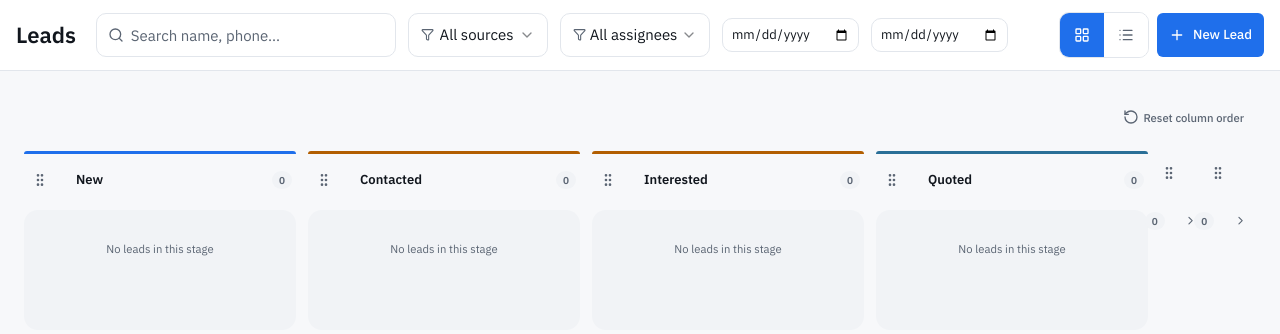
Scenario: LeadsPage filters › shows a removable chip for the active assignee filter
Click the dropdown labelled "All assignees" at (635, 35), box [560, 13, 710, 57]
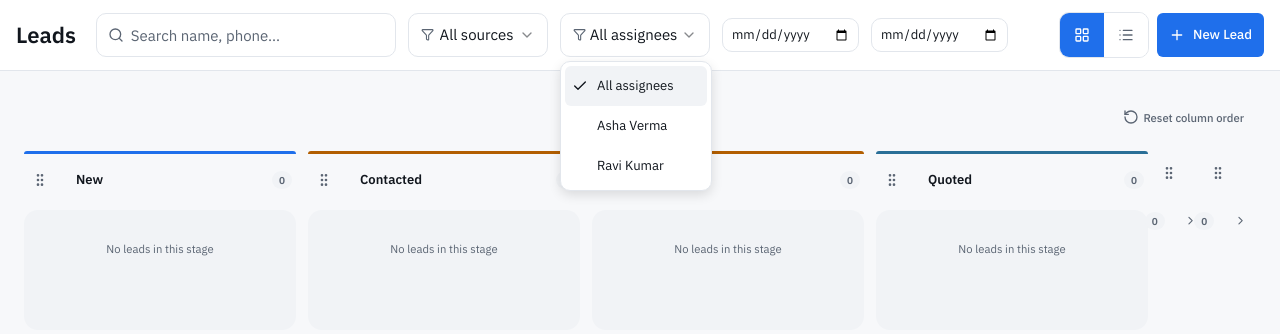
Click the option "Asha Verma" at (632, 125), box [597, 117, 667, 134]
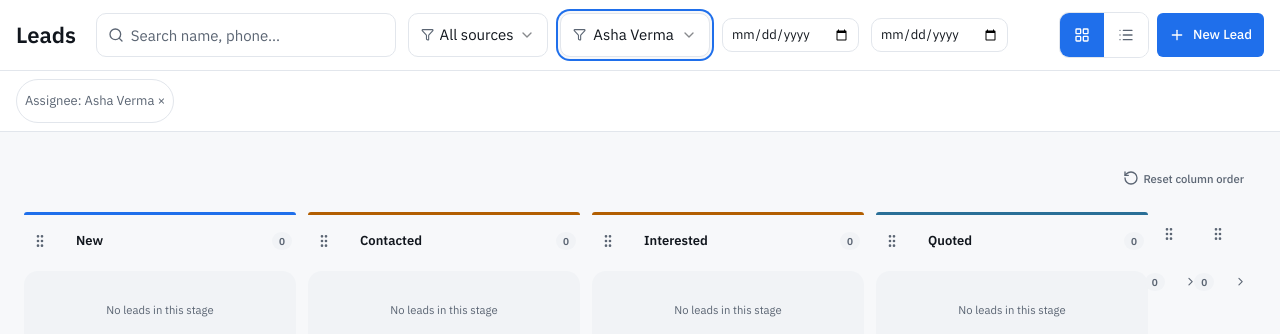
Click the button "Assignee: Asha Verma ×" at (95, 101), box [16, 79, 174, 123]
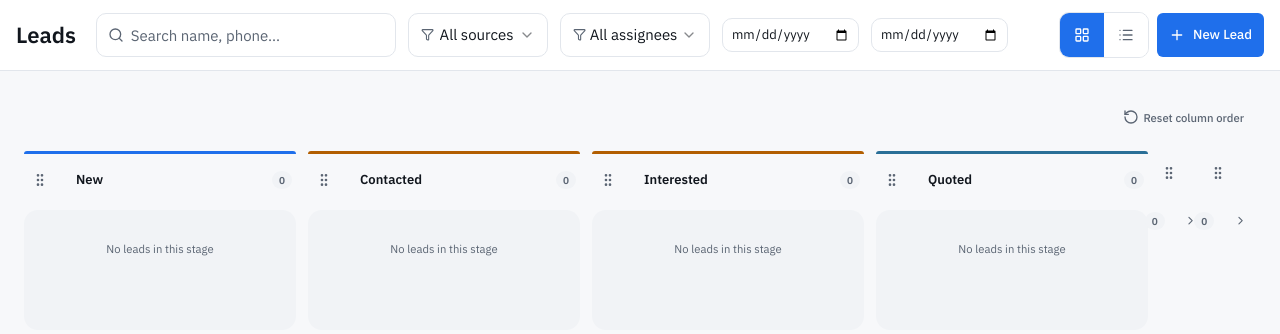
Now the button "Assignee: Asha Verma" is gone
